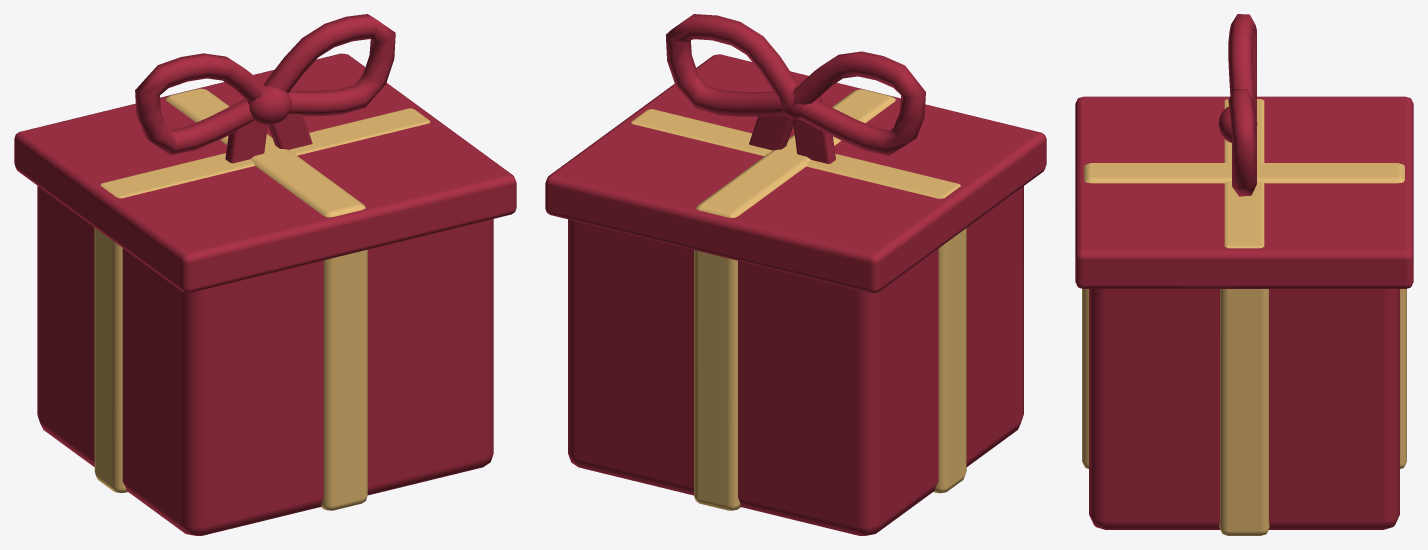
Rendered from christmas-storybook-satin-parcel-e731f973__18743.glb.
The picture shows the model from 3 angles, left to right: view 1: azimuth 30°, elevation 25°; view 2: azimuth 150°, elevation 25°; view 3: azimuth 270°, elevation 25°; orthographic projection. The views are drawn at different scales.
Parts seen in each view (by area): view 1: berry, brass; view 2: berry, brass; view 3: berry, brass.
Part boxes in pixels (x1,y1,x2,y2): berry: (14, 14, 516, 535); brass: (94, 88, 430, 510); berry: (545, 14, 1046, 535); brass: (631, 89, 966, 510); berry: (1075, 14, 1413, 529); brass: (1082, 99, 1406, 535).
Size of the model in its own units: 0.485 by 0.5694 by 0.435.
